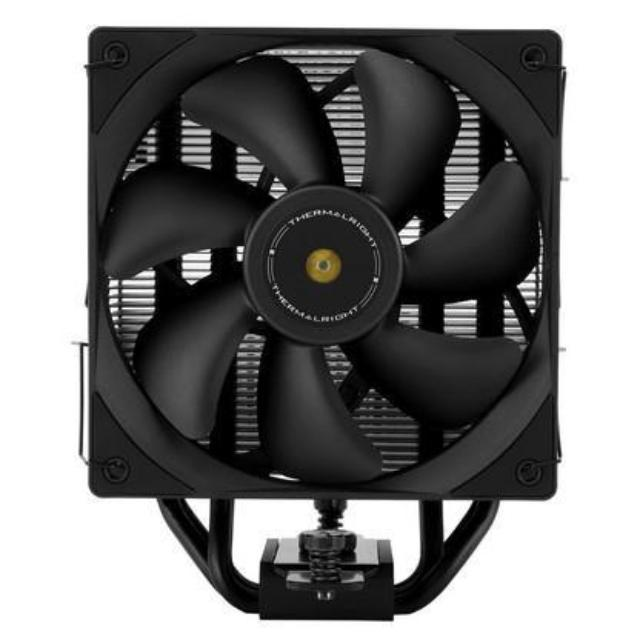CPU_Fan: (84, 22, 566, 620)
